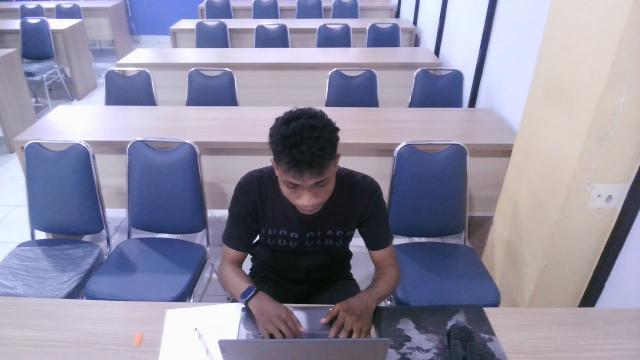Normal_Focus: (214, 104, 401, 315)
